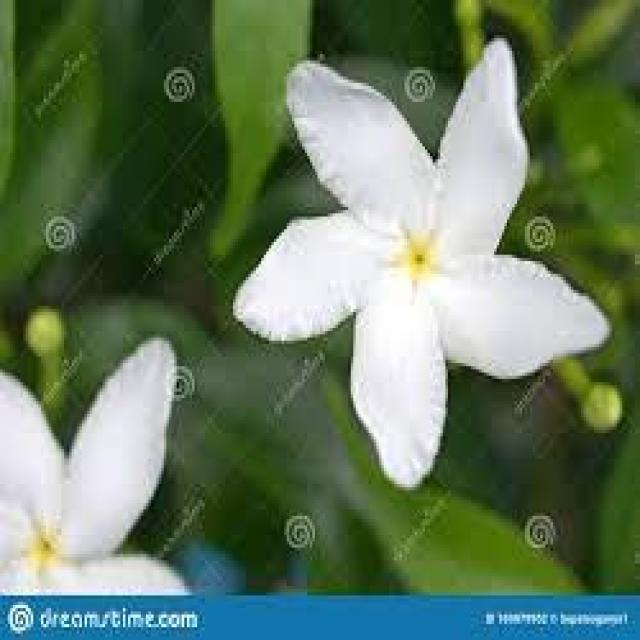organic waste: (248, 35, 599, 459), (0, 342, 207, 590)
